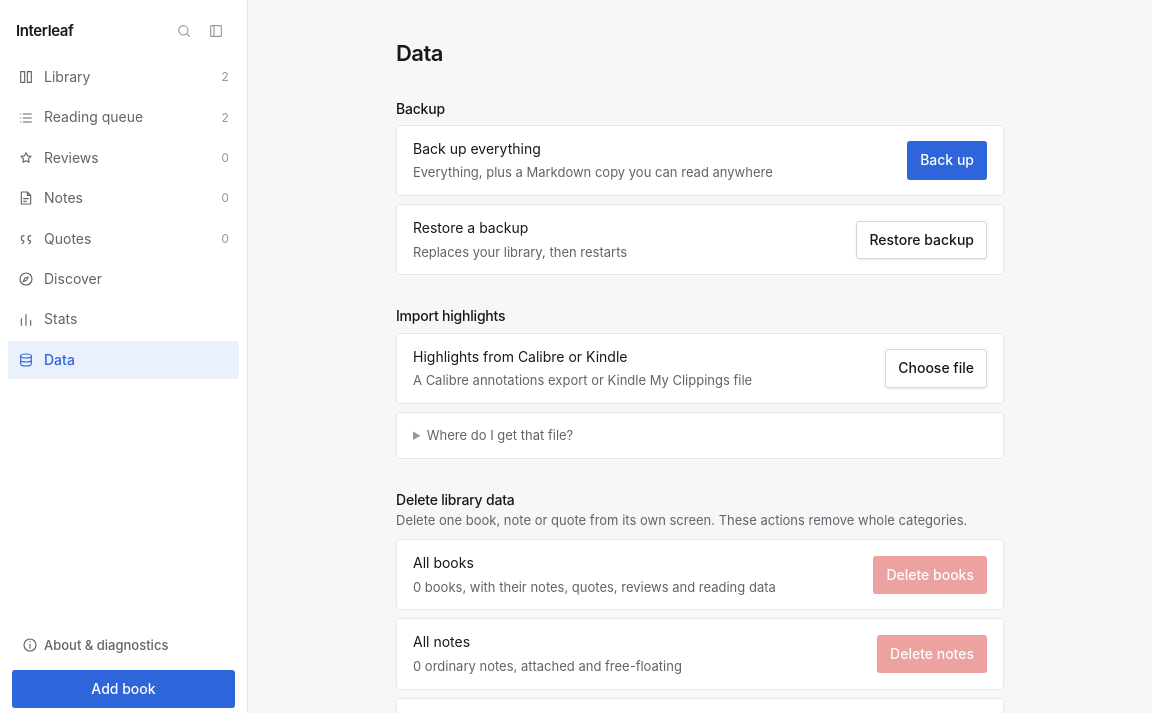
Test: starting an import from Data › asks which book an unmatched Calibre book is
This screenshot has width=1152, height=713.
Step 1. Click the button "Choose file" → (936, 368), box [885,349,987,388]
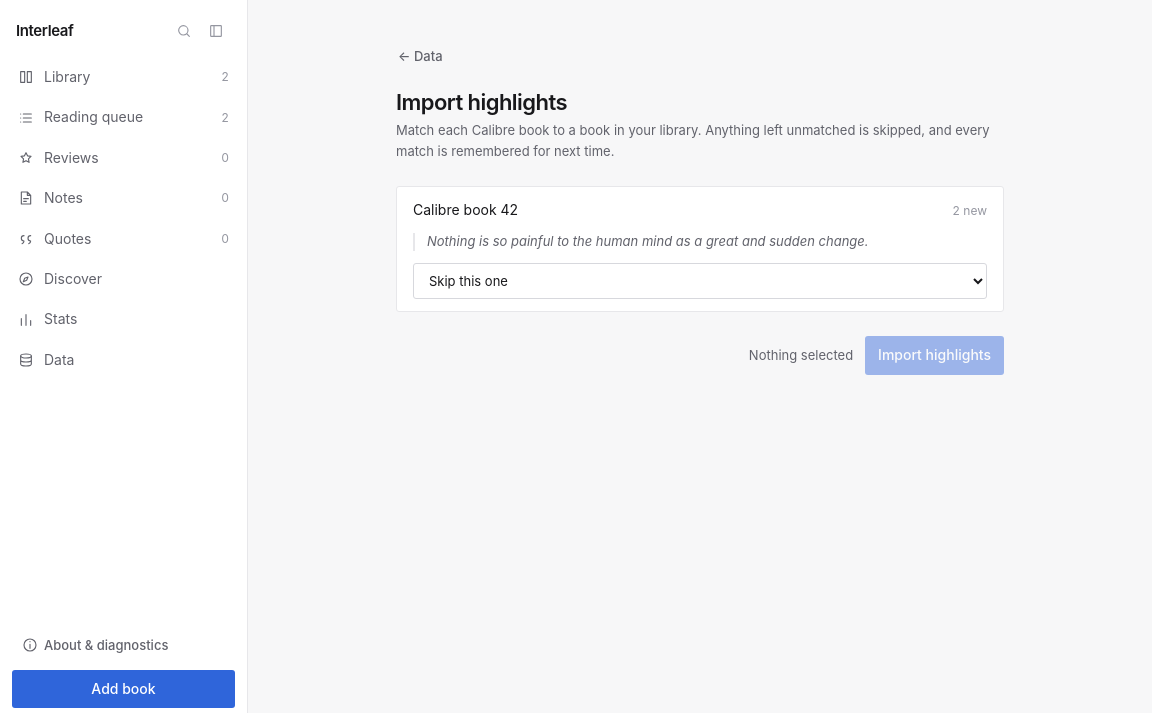
Expected: the heading "Import highlights" is shown, [396,89,567,115]
